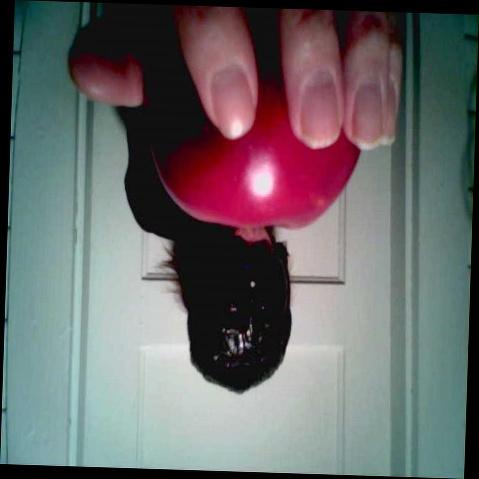red apple: (152, 75, 378, 231)
